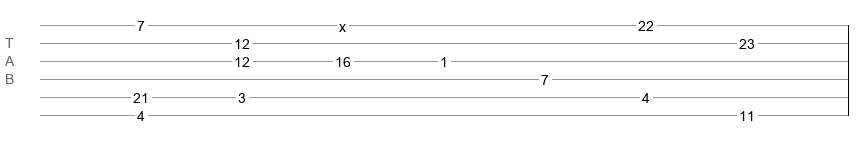1: (440, 54, 448, 64)
11: (739, 108, 755, 118)
12: (234, 36, 250, 46), (234, 54, 250, 64)
16: (335, 54, 351, 64)
21: (133, 90, 149, 100)
22: (638, 18, 654, 28)
23: (739, 36, 755, 46)
3: (238, 90, 246, 100)
4: (137, 108, 145, 118), (642, 90, 650, 100)
7: (137, 18, 145, 28), (541, 72, 549, 82)
x: (339, 19, 346, 27)
